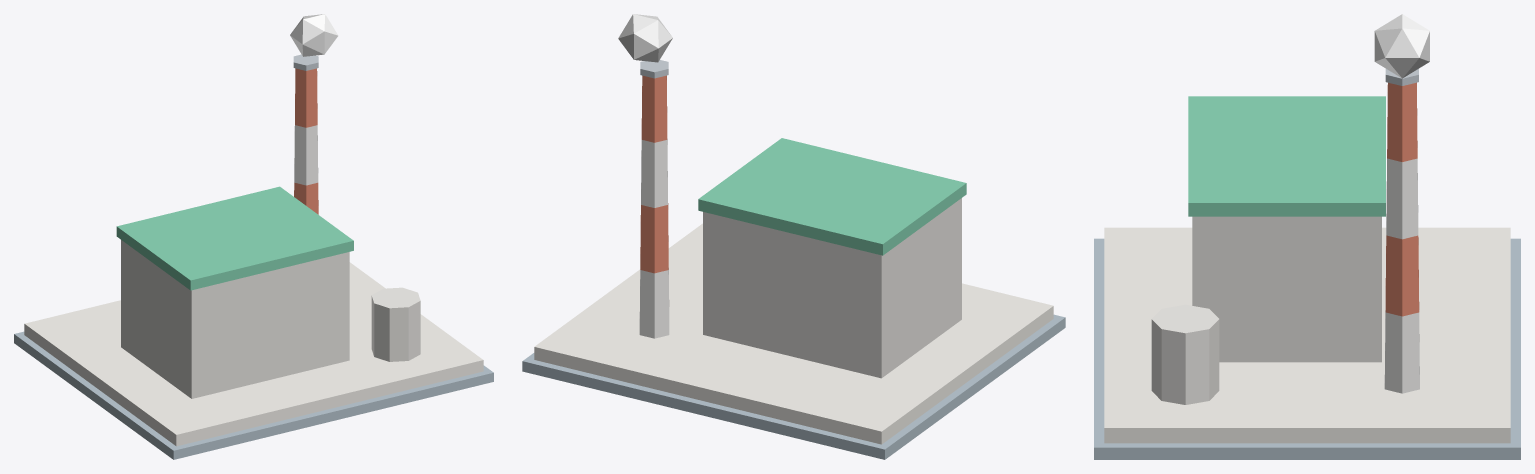
The model's file is other_low.glb.
3 views of the same model, side by side, from view 1: azimuth 30°, elevation 25°; view 2: azimuth 150°, elevation 25°; view 3: azimuth 270°, elevation 25° (orthographic). The views are drawn at different scales.
Parts seen in each view (by area): view 1: concrete, base, battery_accent, rim_7f97a8, tank, red, steam, white; view 2: base, concrete, battery_accent, rim_7f97a8, white, red, steam; view 3: base, concrete, battery_accent, rim_7f97a8, tank, white, red, steam.
Part boxes in pixels (x1,y1,x2,y2): concrete: (121, 240, 349, 398); base: (24, 262, 483, 446); battery_accent: (116, 186, 353, 290); rim_7f97a8: (14, 331, 493, 459); tank: (371, 287, 420, 361); red: (294, 68, 318, 214); steam: (290, 14, 338, 56); white: (294, 125, 318, 185); base: (534, 223, 1053, 444); concrete: (703, 198, 961, 378); battery_accent: (698, 138, 966, 255); rim_7f97a8: (522, 314, 1065, 459); white: (639, 139, 669, 338); red: (640, 75, 668, 273); steam: (618, 14, 672, 62); base: (1104, 227, 1510, 443); concrete: (1192, 216, 1381, 362); battery_accent: (1188, 96, 1385, 216); rim_7f97a8: (1094, 238, 1520, 459); tank: (1151, 304, 1219, 404); white: (1384, 158, 1419, 393); red: (1385, 82, 1419, 316); steam: (1374, 14, 1429, 78).
Size of the model in its own units: 7.3 by 6.46 by 6.3.
